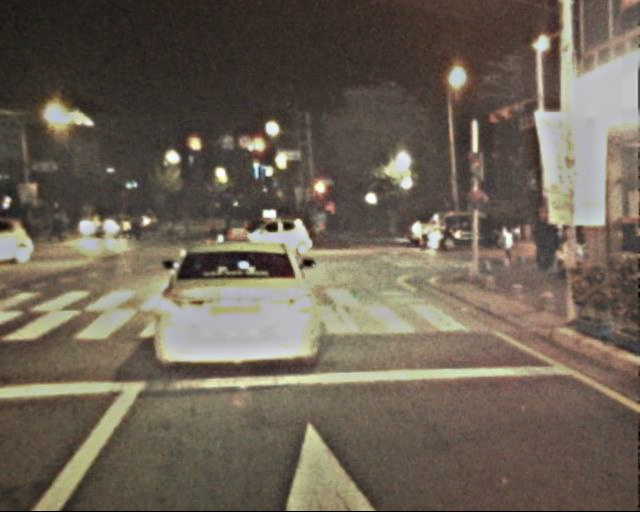person: (531, 216, 554, 272), (498, 220, 518, 268), (50, 208, 72, 243), (215, 210, 230, 246), (128, 208, 142, 242), (202, 211, 216, 244), (161, 209, 174, 241), (176, 209, 188, 239)
